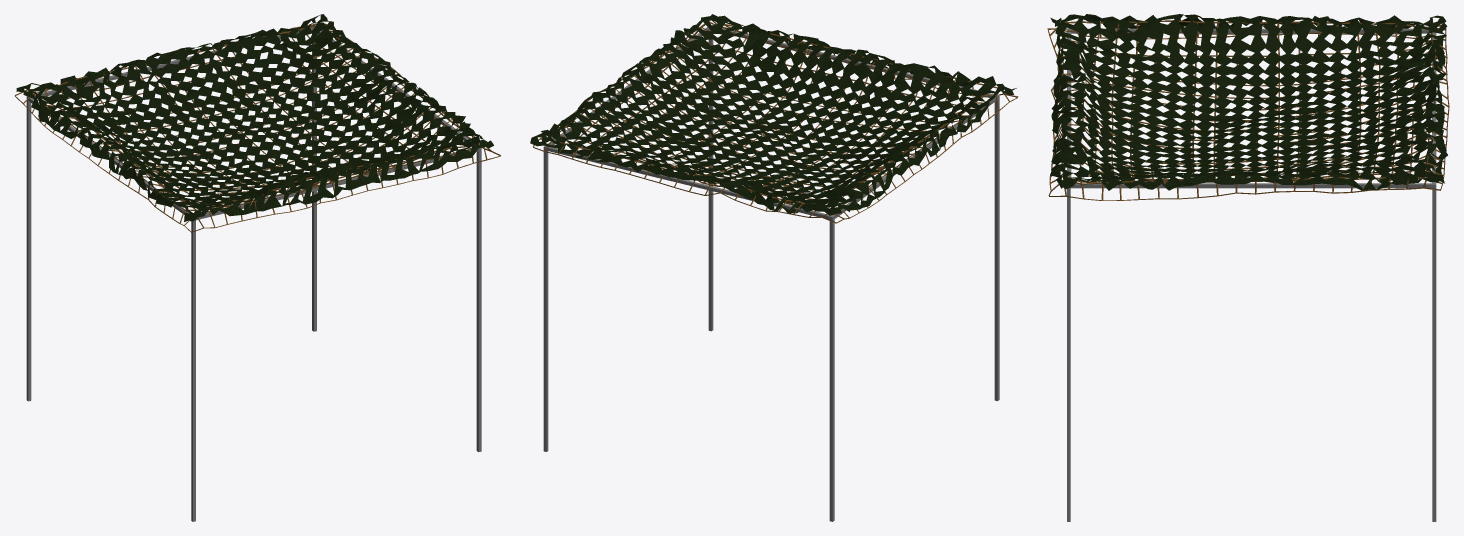
The model's file is Camo Netting.fbx.
3 renders of one model, left to right at view 1: azimuth 30°, elevation 25°; view 2: azimuth 150°, elevation 25°; view 3: azimuth 270°, elevation 25°, orthographic. The views are drawn at different scales.
Parts seen in each view (by area): view 1: Camo Netting Roof, Camo Netting; view 2: Camo Netting Roof, Camo Netting; view 3: Camo Netting Roof, Camo Netting.
Part boxes in pixels (left/top/right/bottom): Camo Netting Roof: left=14, top=14, right=500, bottom=232; Camo Netting: left=26, top=27, right=481, bottom=521; Camo Netting Roof: left=530, top=14, right=1018, bottom=223; Camo Netting: left=543, top=25, right=999, bottom=521; Camo Netting Roof: left=1047, top=14, right=1449, bottom=200; Camo Netting: left=1066, top=28, right=1436, bottom=521.
Size of the model in its own units: 336 by 324 by 336.
